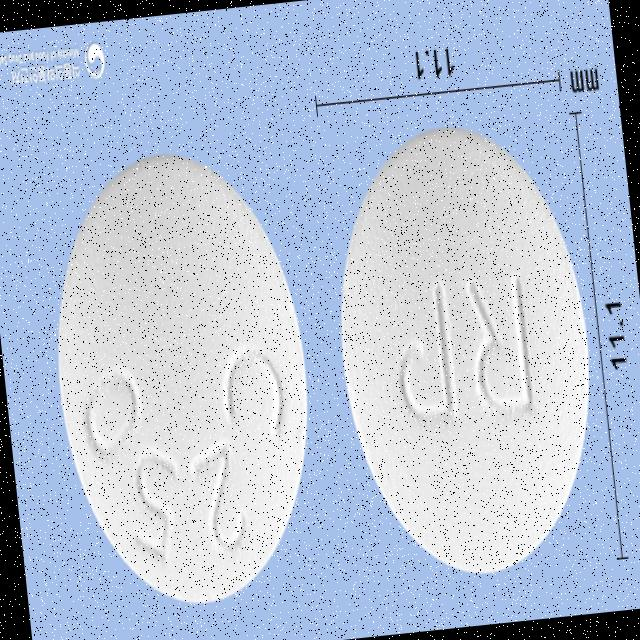RP Ciprok Tab: (36, 143, 329, 617), (318, 116, 610, 590)
